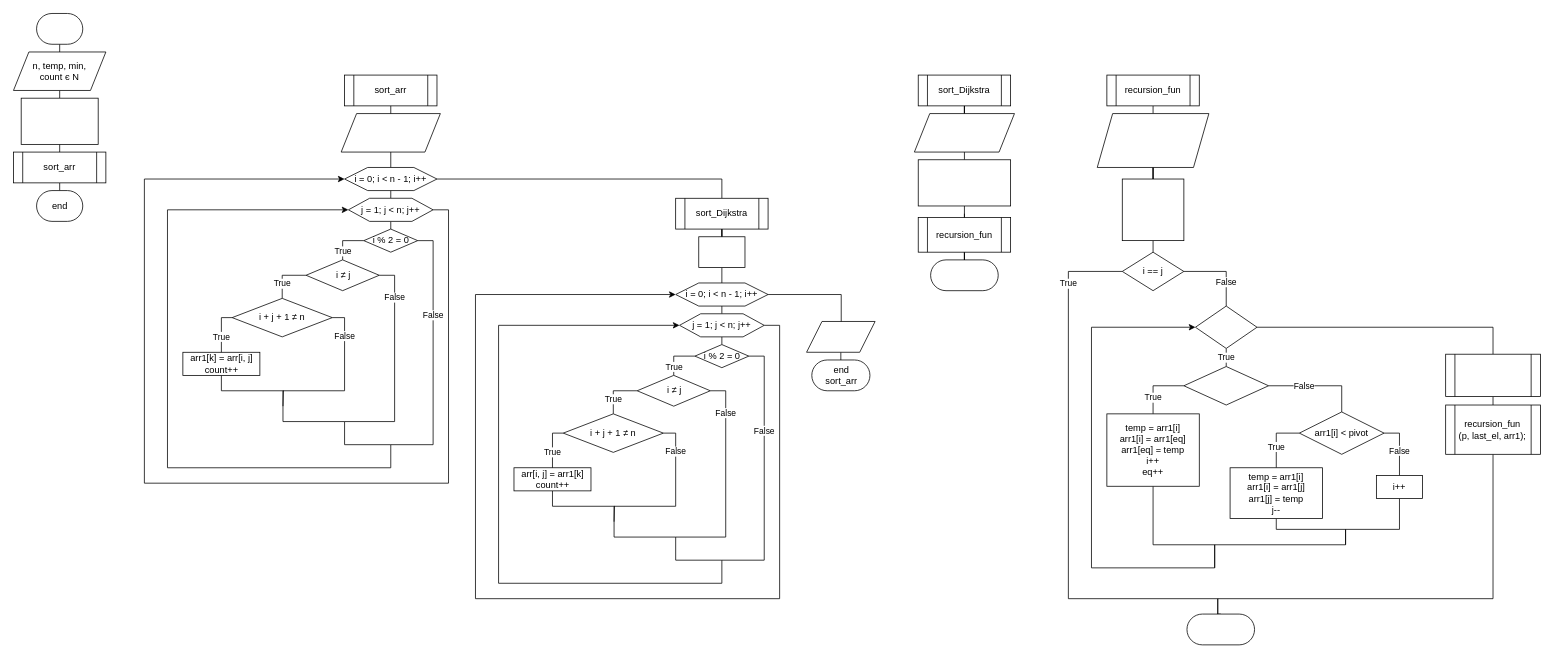
Some shapes in this 1554 by 658 pixel diagram are drawn without their labels. The box of each missing label's shape, as (x1, y1, x2, y2) in pixels:
arr: (806, 321, 875, 352)
arr1[i] > pivot: (1183, 366, 1269, 405)
c = 0: (698, 236, 745, 268)
count = 0 int[,] arr [n, n] int[] arr1 [count]: (20, 97, 98, 144)
count, n є N int[,] arr [n, n]: (340, 113, 440, 152)
end recursion_fun: (1186, 613, 1255, 645)
end sort_Dijkstra: (930, 259, 998, 291)
eq = 0 i = 0 arr1[eq] = arr1[i] j = count - 1: (917, 159, 1011, 206)
first_el = i last_el = j eq = i p = eq + 1 pivot = arr1[i]: (1122, 178, 1184, 241)
i <= j: (1195, 305, 1257, 348)
i, j, eq, count є N int[,] arr [n, n]: (914, 113, 1014, 152)
i, j, eq, count, temp, pivot, last_el, p, first_el є N int[,] arr [n, n]: (1096, 113, 1209, 167)
recursion_fun (first_el, eq, arr1): (1445, 353, 1540, 397)
start: (36, 13, 83, 44)
